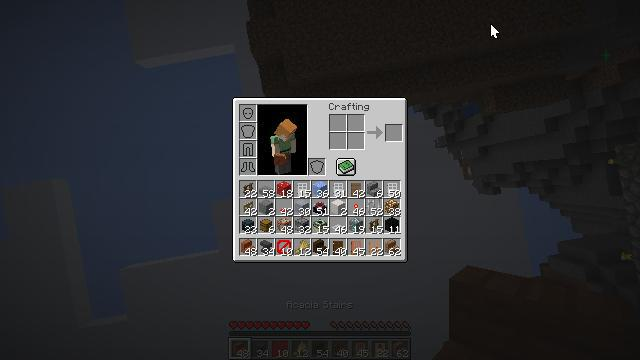cursor: (490, 23, 500, 39)
